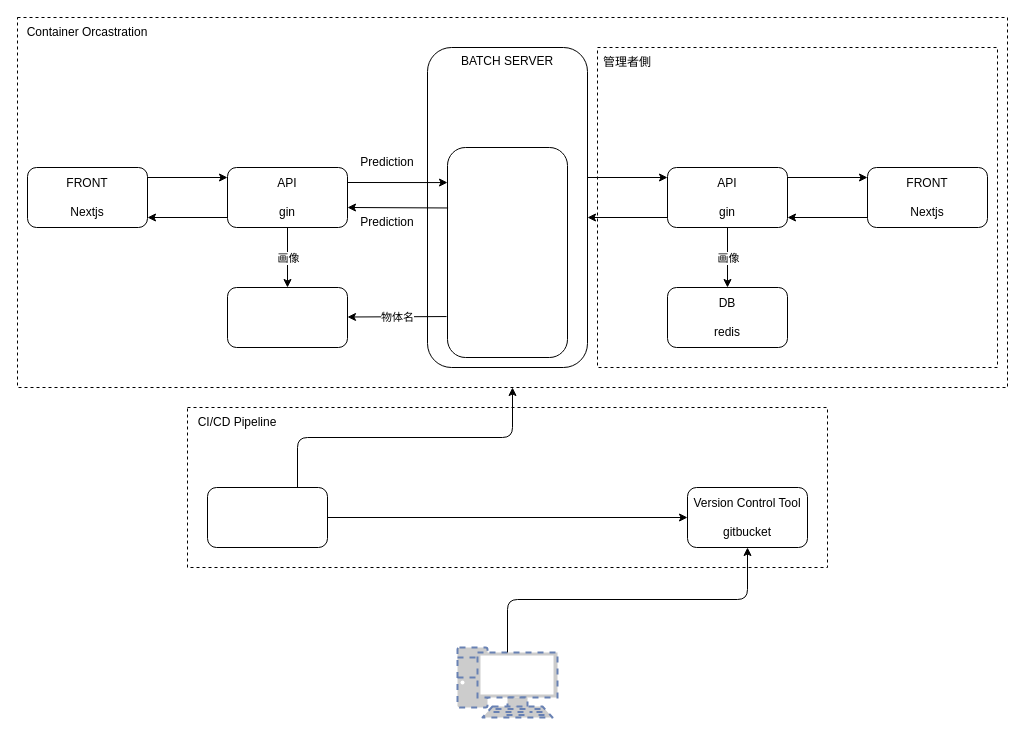
This 1025x736 diagram has some shape labels left out. Each missing label, with the centre of its shape:
"CICD Tool jenkins" belongs at point (267, 517).
"DB PostgreSQL" belongs at point (287, 317).
"MODEL" belongs at point (507, 252).
